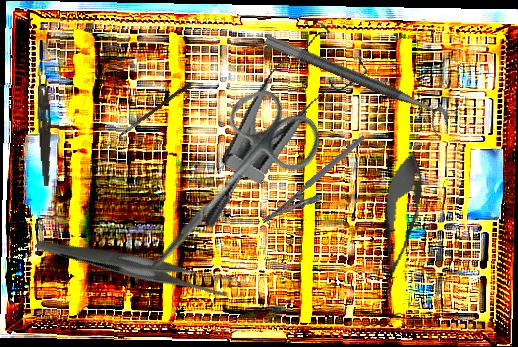Dressing Forceps: (33, 182, 236, 346), (33, 64, 56, 187)
Fixation Ring: (257, 33, 452, 139)
Hook Surgical: (99, 80, 192, 156)
Iris Scissors: (120, 76, 332, 303)
Micro Scissor: (370, 148, 430, 302)
Needle Holder: (260, 134, 378, 238)
Speculum: (199, 4, 380, 259)
